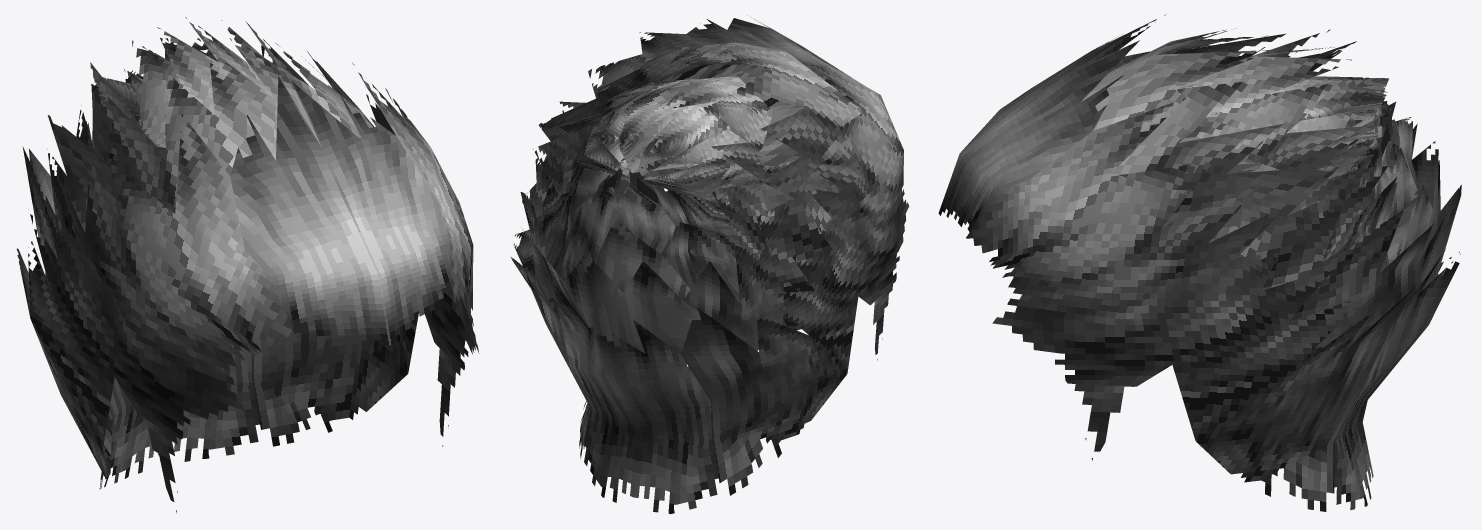
The model's file is m_head014.glb.
3 renders of one model, left to right at view 1: azimuth 30°, elevation 25°; view 2: azimuth 150°, elevation 25°; view 3: azimuth 270°, elevation 25°, orthographic. The views are drawn at different scales.
Bounding box in the file's own units: 16.39 × 22.45 × 23.36.
Materials: 1 (1 with a texture image).
